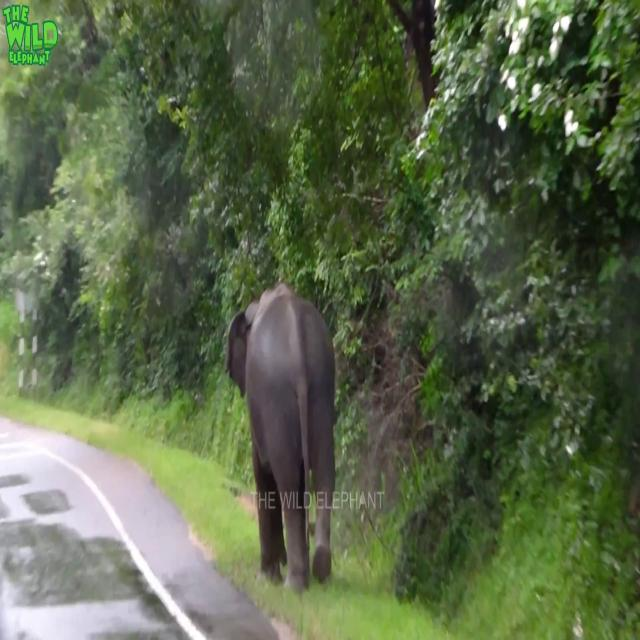Elephant: (225, 280, 336, 594)
